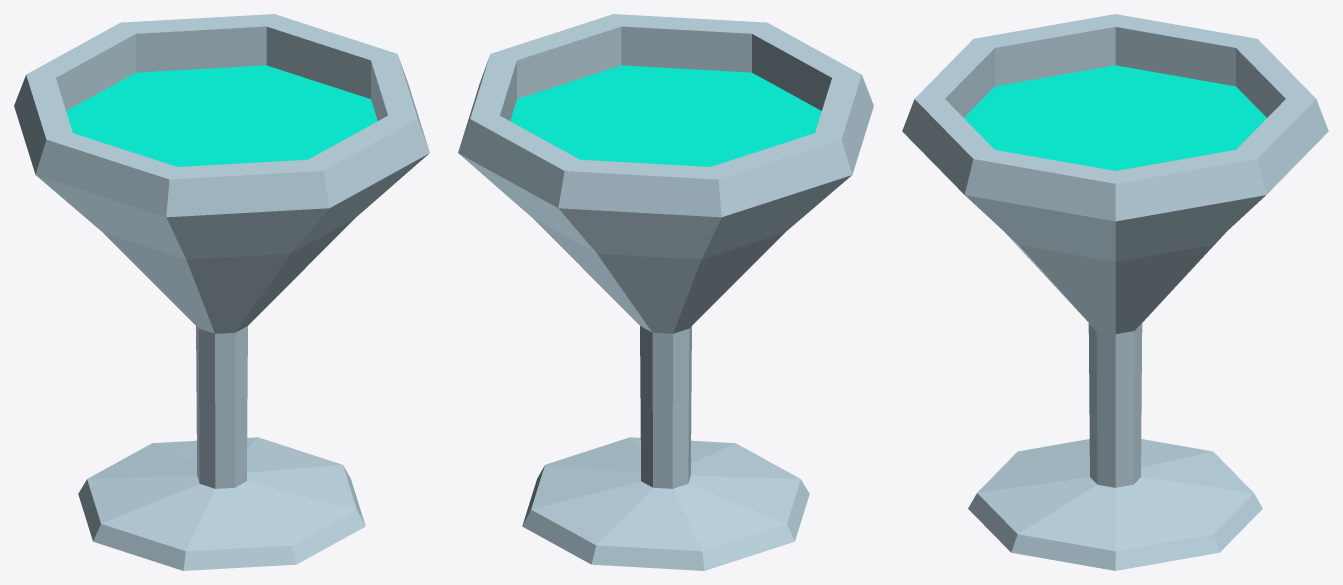
Rendered from SM_Prop_Glass_02.fbx.
3 views of the same model, side by side, from view 1: azimuth 30°, elevation 25°; view 2: azimuth 150°, elevation 25°; view 3: azimuth 270°, elevation 25° (orthographic).
Visible parts, largest first — view 1: SM_Prop_Glass_02, SM_Prop_Drink_02; view 2: SM_Prop_Glass_02, SM_Prop_Drink_02; view 3: SM_Prop_Glass_02, SM_Prop_Drink_02.
Part boxes in pixels (x1,y1,x2,y2): SM_Prop_Glass_02: (14,14,429,570); SM_Prop_Drink_02: (66,65,377,166); SM_Prop_Glass_02: (458,14,873,570); SM_Prop_Drink_02: (510,65,821,166); SM_Prop_Glass_02: (902,14,1328,570); SM_Prop_Drink_02: (964,65,1266,170).
Bounding box in the file's own units: 16.12 × 17.07 × 16.12.
